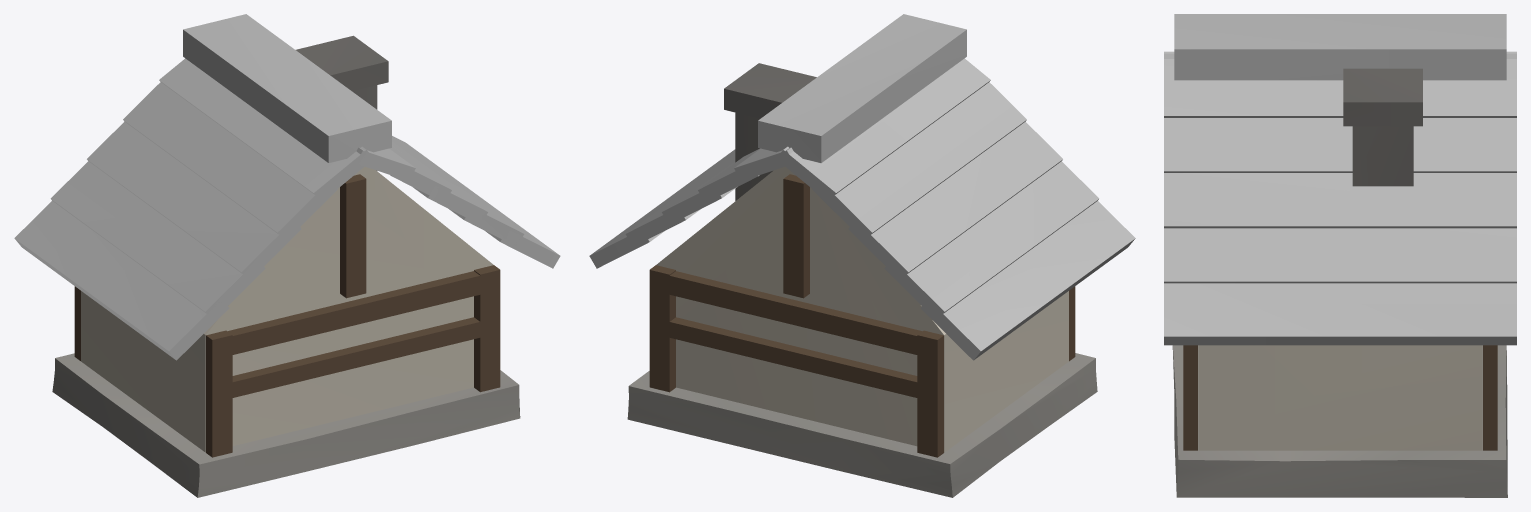
The model's file is settlement.glb.
3 renders of one model, left to right at view 1: azimuth 30°, elevation 25°; view 2: azimuth 150°, elevation 25°; view 3: azimuth 270°, elevation 25°, orthographic. The views are drawn at different scales.
Visible parts, largest first — view 1: hs_roof_tint, hs_body, hs_timber, hs_foundation, hs_chimney; view 2: hs_roof_tint, hs_body, hs_timber, hs_foundation, hs_chimney; view 3: hs_roof_tint, hs_body, hs_foundation, hs_chimney, hs_timber.
Part boxes in pixels (box(x1,y1,x2,y2)): hs_roof_tint: box(14, 14, 560, 360); hs_body: box(81, 167, 493, 452); hs_timber: box(74, 174, 500, 457); hs_foundation: box(52, 353, 520, 497); hs_chimney: box(296, 35, 388, 170); hs_roof_tint: box(589, 14, 1135, 360); hs_body: box(656, 167, 1068, 452); hs_timber: box(649, 174, 1075, 457); hs_foundation: box(627, 353, 1097, 497); hs_chimney: box(724, 63, 816, 200); hs_roof_tint: box(1164, 14, 1516, 345); hs_body: box(1198, 345, 1482, 450); hs_foundation: box(1172, 345, 1507, 497); hs_chimney: box(1343, 68, 1422, 186); hs_timber: box(1183, 345, 1497, 450).
Size of the model in its own units: 0.2718 by 0.219 by 0.186.
